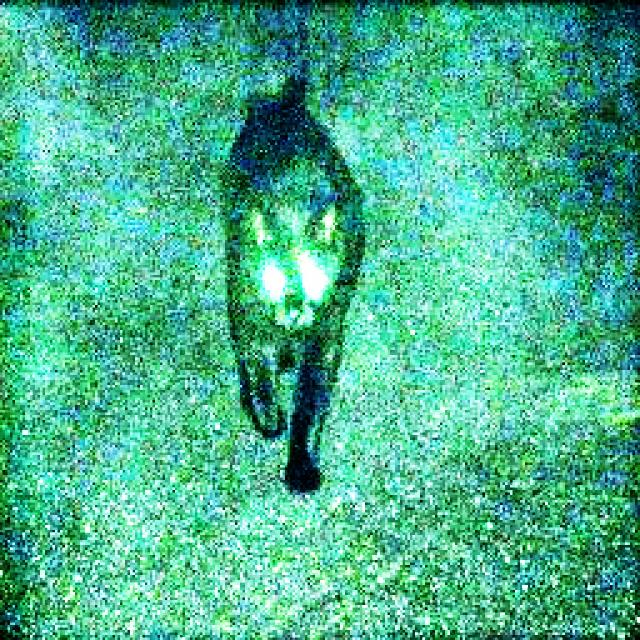cat: (179, 36, 399, 512)
